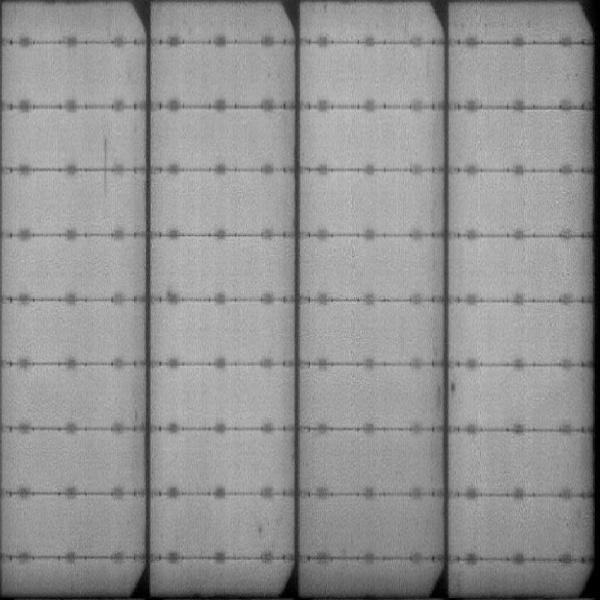scratch: (99, 138, 112, 191)
